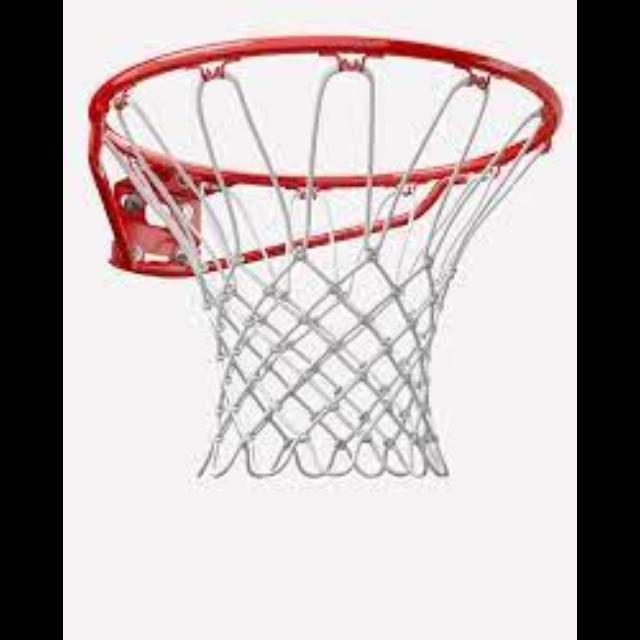rim: (90, 35, 562, 479)
